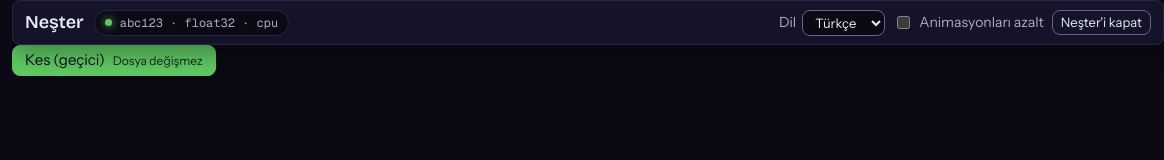
Scenario: cutting two heads adds two items and the header shows Kaydedilmemiş 2 kesim
The image size is (1164, 160).
Click the button "Kes (geçici) Dosya değişmez" at [114, 60], box top-left (12, 45), bottom-right (216, 76)
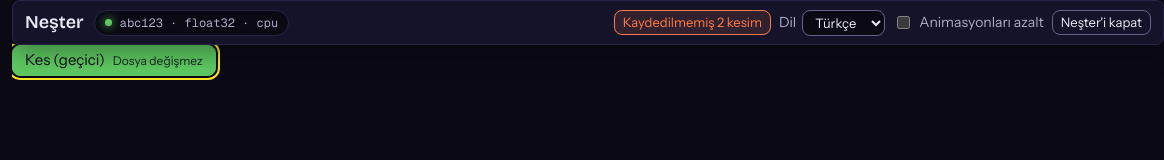
Now the button "Kaydedilmemiş 2 kesim" is shown, box top-left (614, 10), bottom-right (771, 35)
